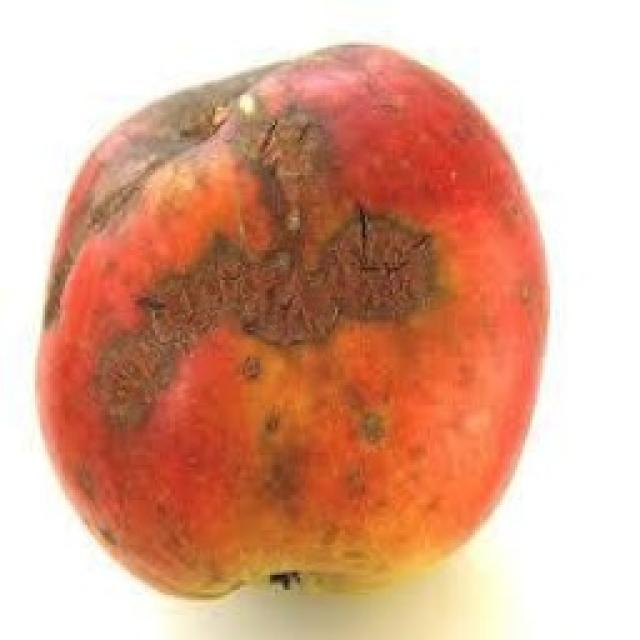defective: (32, 38, 550, 600)
